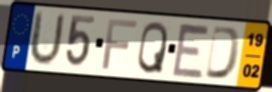5: (64, 13, 98, 69)
D: (203, 24, 243, 82)
E: (170, 21, 212, 81)
F: (101, 18, 140, 72)
Q: (136, 20, 170, 76)
U: (26, 9, 67, 68)
